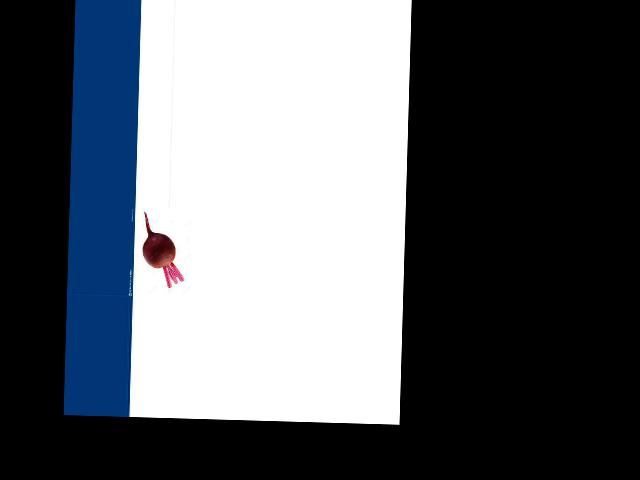beet: (141, 212, 185, 287)
